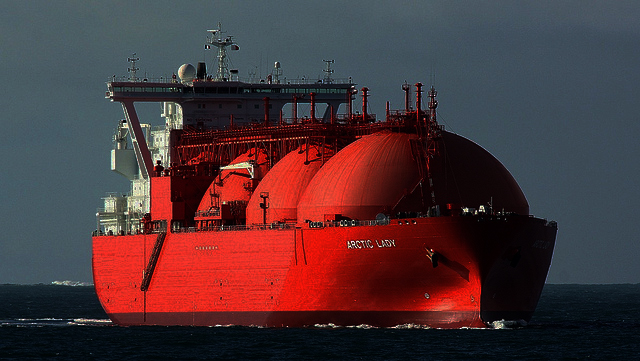LNG_ship: (97, 20, 560, 327)
